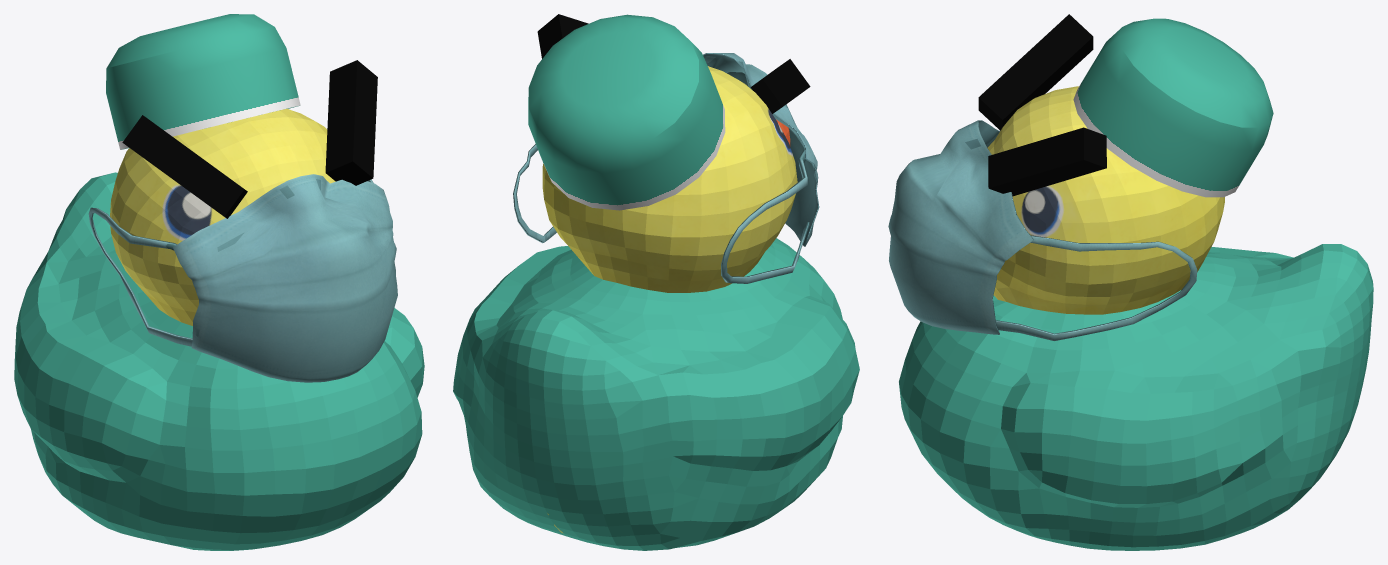
Rendered from Doctor_Ducky.fbx.
3 renders of one model, left to right at view 1: azimuth 30°, elevation 25°; view 2: azimuth 150°, elevation 25°; view 3: azimuth 270°, elevation 25°, orthographic.
Parts seen in each view (by area): view 1: Ducky_medic, Mask, medichat1, angry_tophat_left1, angry_tophat_right1; view 2: Ducky_medic, medichat1, Mask, angry_tophat_right1, angry_tophat_left1; view 3: Ducky_medic, medichat1, Mask, angry_tophat_right1, angry_tophat_left1.
Boxes of the visible parts, x1=… form: Ducky_medic: x1=14, y1=108, x2=424, y2=550; Mask: x1=88, y1=174, x2=397, y2=382; medichat1: x1=106, y1=14, x2=300, y2=149; angry_tophat_left1: x1=325, y1=60, x2=377, y2=185; angry_tophat_right1: x1=122, y1=115, x2=247, y2=218; Ducky_medic: x1=453, y1=66, x2=859, y2=550; medichat1: x1=528, y1=14, x2=725, y2=210; Mask: x1=513, y1=53, x2=819, y2=283; angry_tophat_right1: x1=750, y1=59, x2=810, y2=113; angry_tophat_left1: x1=537, y1=14, x2=588, y2=58; Ducky_medic: x1=899, y1=86, x2=1373, y2=550; medichat1: x1=1073, y1=18, x2=1273, y2=197; Mask: x1=888, y1=120, x2=1197, y2=340; angry_tophat_right1: x1=978, y1=14, x2=1093, y2=130; angry_tophat_left1: x1=988, y1=127, x2=1106, y2=196.
Bounding box in the file's own units: 62.11 × 80.07 × 75.09.
4 materials, 3 textured.
